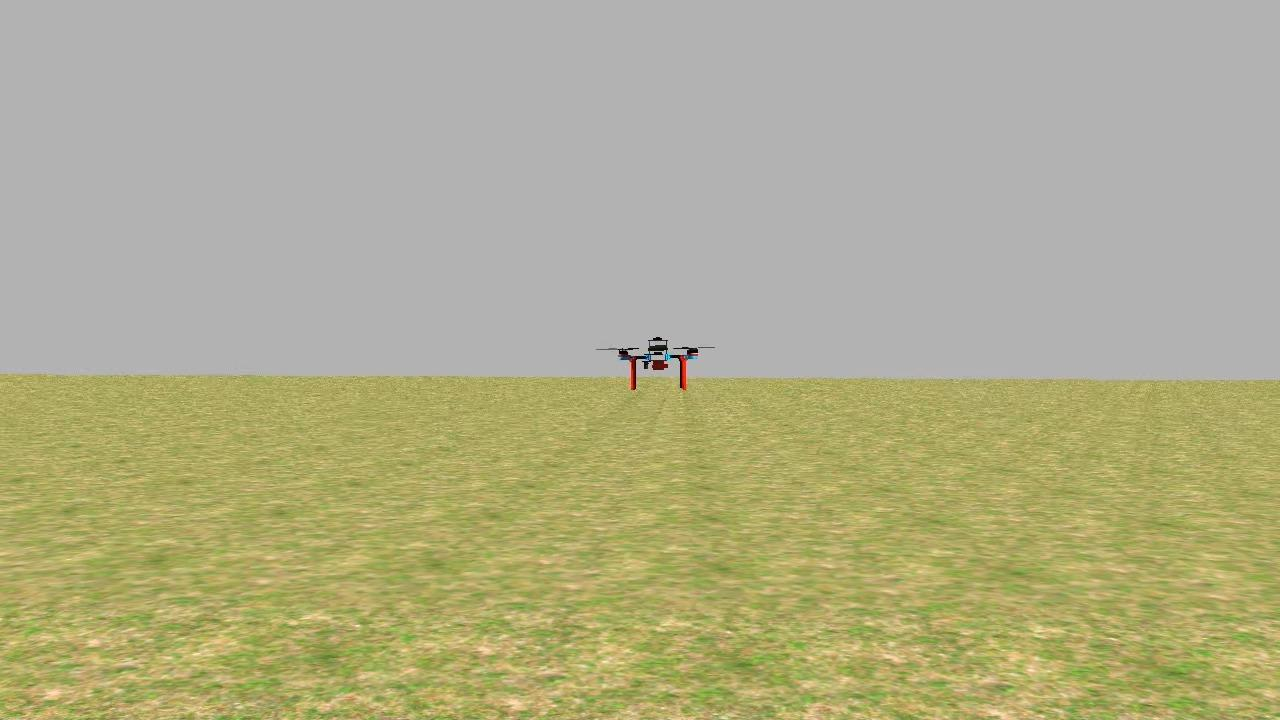UAV: (594, 330, 716, 391)
